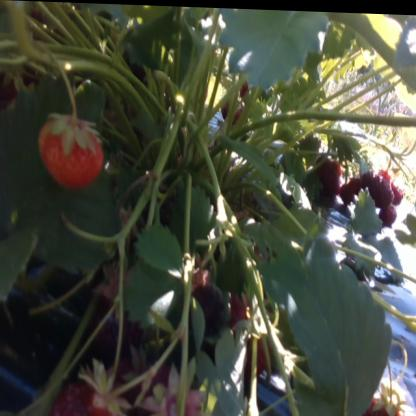ripe: (38, 107, 106, 193), (343, 172, 404, 219), (60, 377, 132, 416), (310, 154, 342, 198), (220, 91, 246, 122), (363, 398, 407, 416)
